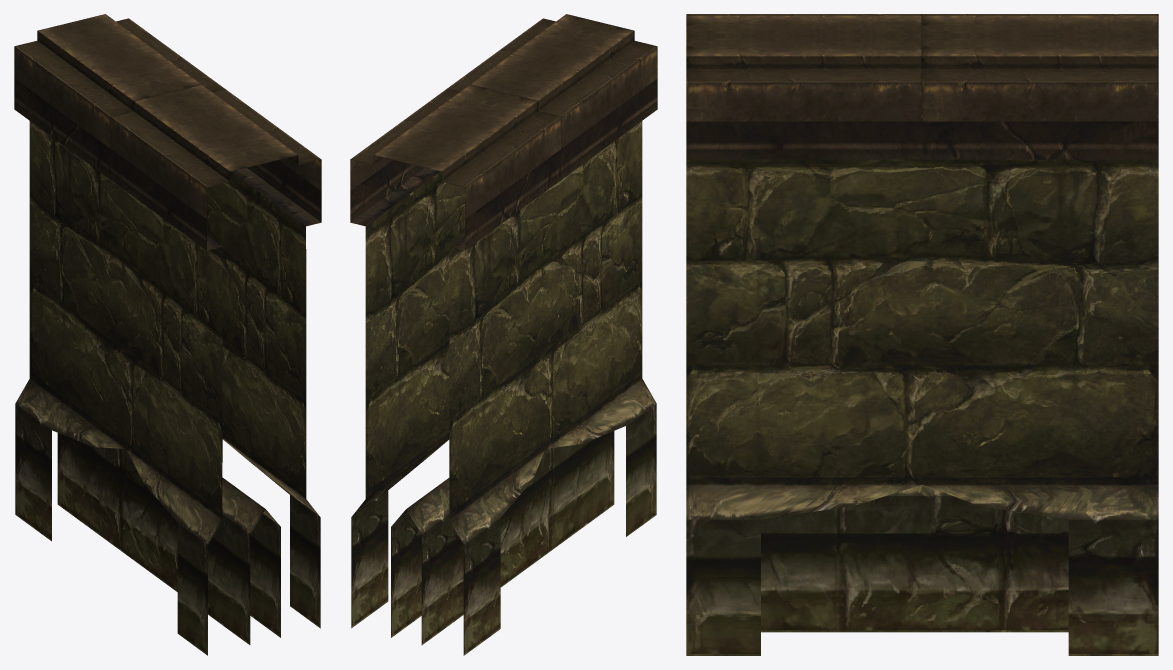
File: Stage001_WALL_02.FBX
3 views of the same model, side by side, from view 1: azimuth 30°, elevation 25°; view 2: azimuth 150°, elevation 25°; view 3: azimuth 270°, elevation 25° (orthographic). The views are drawn at different scales.
Visible parts, largest first — view 1: Stage001_WALL_02; view 2: Stage001_WALL_02; view 3: Stage001_WALL_02.
Boxes of the visible parts, x1,y1,x2,y2 form: Stage001_WALL_02: (14, 14, 321, 655); Stage001_WALL_02: (350, 14, 657, 655); Stage001_WALL_02: (686, 14, 1158, 655).
Bounding box in the file's own units: 172 × 685 × 500.
1 material, 1 textured.
